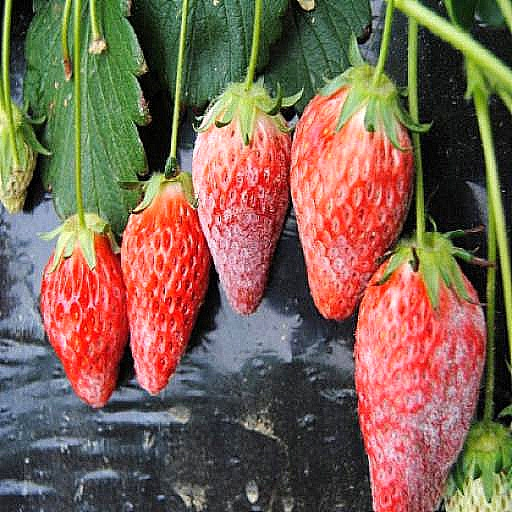Powdery Mildew Fruit: (23, 233, 159, 511), (95, 69, 222, 321), (217, 81, 321, 317), (383, 283, 466, 411), (312, 283, 389, 397)
